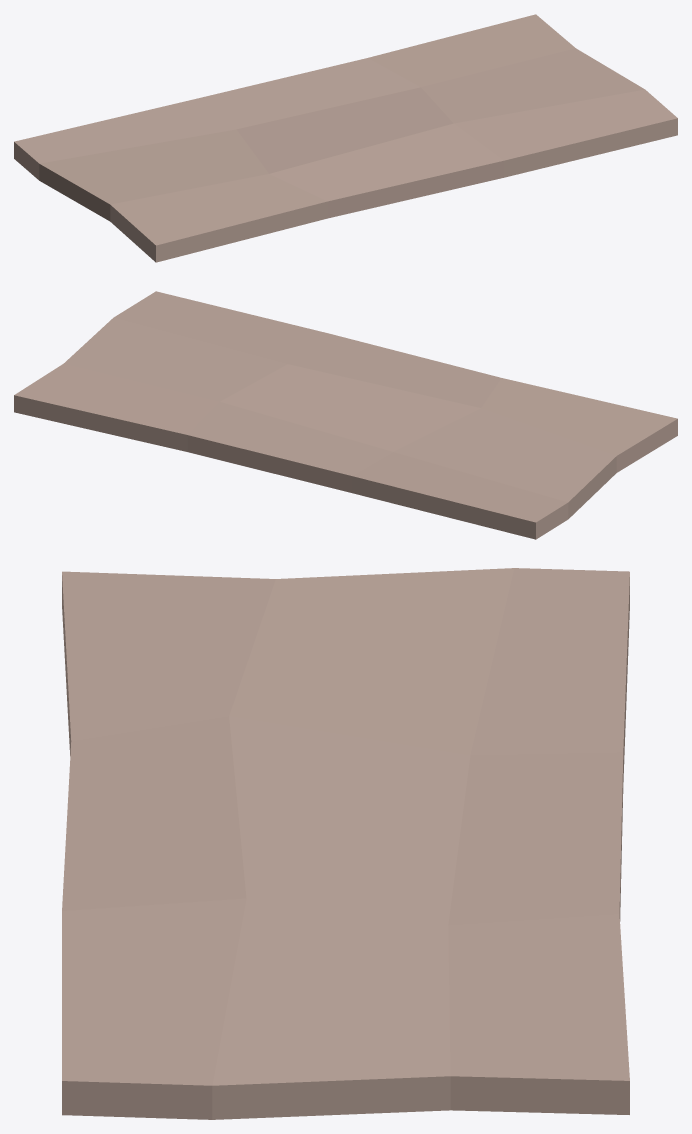
Rendered from ground.glb.
3 renders of one model, top to bottom at view 1: azimuth 30°, elevation 25°; view 2: azimuth 150°, elevation 25°; view 3: azimuth 270°, elevation 25°, orthographic. The views are drawn at different scales.
Visible parts, largest first — view 1: Ground; view 2: Ground; view 3: Ground.
Boxes of the visible parts, left/top/right/bottom form: Ground: left=14, top=14, right=677, bottom=262; Ground: left=14, top=291, right=677, bottom=539; Ground: left=62, top=568, right=629, bottom=1119.
Size of the model in its own units: 2.03 by 0.0786 by 0.9425.
